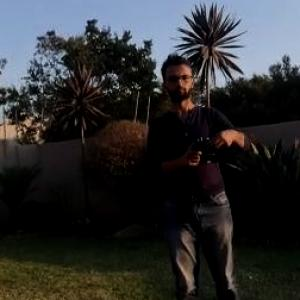follow: (144, 41, 260, 298)
